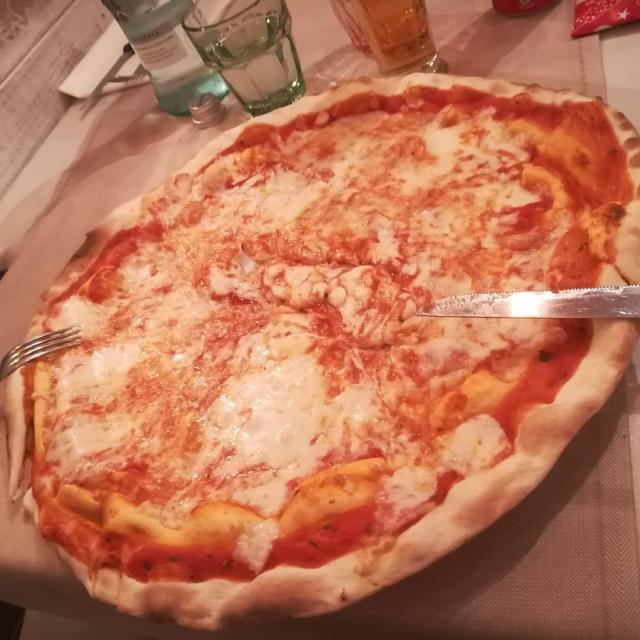pizza: (6, 75, 640, 627)
